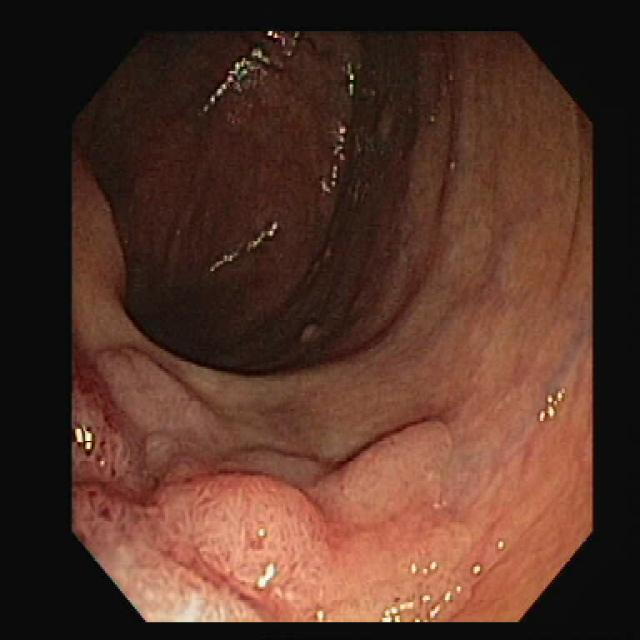tumor: (73, 349, 503, 620)
